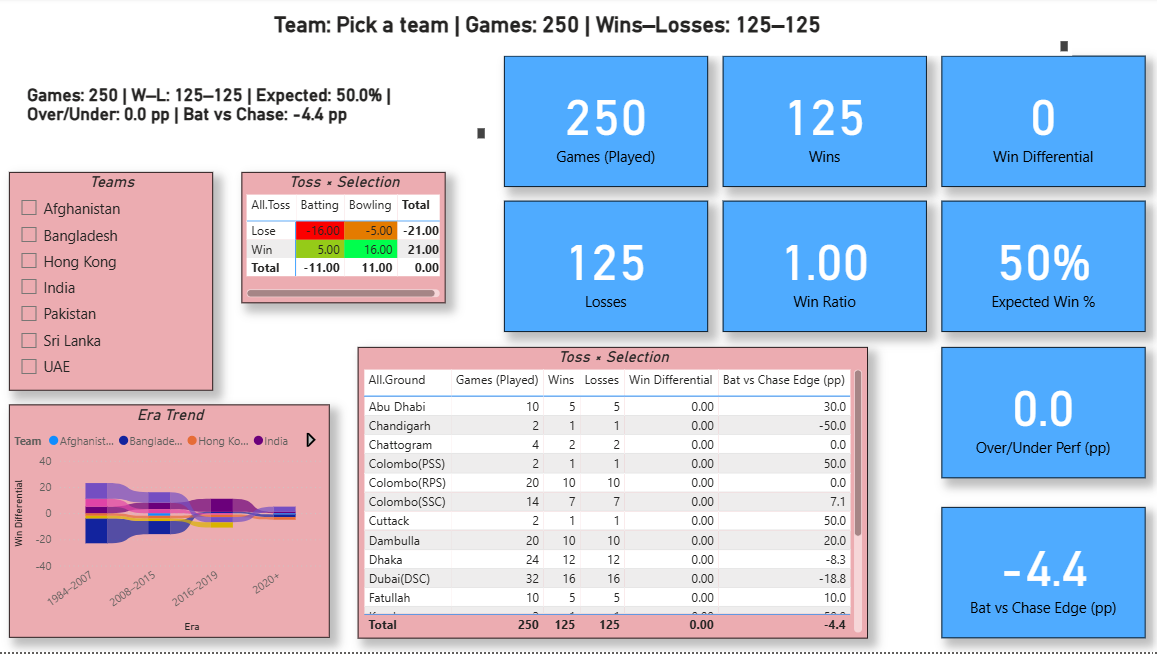

The dashboard page shown, as its layout file describes it:
{"tool":"powerbi","page":{"name":"Teams Explorer","canvas":[1280,720],"ordinal":1},"visuals":[{"type":"slicer","title":"Teams","fields":{"Values":["MatchesLong.All.Team"]},"box":[16,192,224,240],"z":0},{"type":"card","fields":{"Values":["MatchesLong.Games (Played)"]},"box":[560,64,224,144],"z":1000},{"type":"card","fields":{"Values":["MatchesLong.Wins"]},"box":[800,64,224,144],"z":2000},{"type":"card","fields":{"Values":["MatchesLong.Losses"]},"box":[560,224,224,144],"z":3000},{"type":"card","fields":{"Values":["MatchesLong.Win Differential"]},"box":[1040,64,224,144],"z":4000},{"type":"card","fields":{"Values":["MatchesLong.Win Ratio"]},"box":[800,224,224,144],"z":5000},{"type":"card","fields":{"Values":["MatchesLong.Expected Win %"]},"box":[1040,224,224,144],"z":6000},{"type":"card","fields":{"Values":["MatchesLong.Over/Under Perf (pp)"]},"box":[1040,384,224,144],"z":7000},{"type":"card","fields":{"Values":["MatchesLong.Bat vs Chase Edge (pp)"]},"box":[1040,560,224,144],"z":8000},{"type":"pivotTable","title":"Toss × Selection","fields":{"Rows":["MatchesLong.All.Toss"],"Columns":["MatchesLong.All.Selection"],"Values":["MatchesLong.Win Differential"]},"box":[272,192,224,144],"z":9000},{"type":"ribbonChart","title":"Era Trend","fields":{"Category":["MatchesLong.All.Era"],"Y":["MatchesLong.Win Differential"],"Series":["MatchesLong.All.Team"]},"box":[16,448,352,256],"z":10000},{"type":"tableEx","title":"Toss × Selection","fields":{"Values":["MatchesLong.All.Ground","MatchesLong.Games (Played)","MatchesLong.Wins","MatchesLong.Losses","MatchesLong.Win Differential","MatchesLong.Bat vs Chase Edge (pp)"]},"box":[400,384,560,320],"z":11000},{"type":"textbox","box":[32,16,1152,48],"z":12000},{"type":"textbox","box":[32,96,512,64],"z":13000}]}

Visuals, with their boxes in screenshot pixels (x1, y1, x2, y2), scaled from the page's 1280x720 canvas onto the 1157x655 screenshot:
"Teams" slicer: 14 175 217 393
card - MatchesLong.Games (Played): 506 58 709 189
card - MatchesLong.Wins: 723 58 926 189
card - MatchesLong.Losses: 506 204 709 335
card - MatchesLong.Win Differential: 940 58 1143 189
card - MatchesLong.Win Ratio: 723 204 926 335
card - MatchesLong.Expected Win %: 940 204 1143 335
card - MatchesLong.Over/Under Perf (pp): 940 349 1143 480
card - MatchesLong.Bat vs Chase Edge (pp): 940 509 1143 640
"Toss × Selection" pivotTable: 246 175 448 306
"Era Trend" ribbonChart: 14 408 333 640
"Toss × Selection" tableEx: 362 349 868 640
textbox: 29 15 1070 58
textbox: 29 87 492 146
